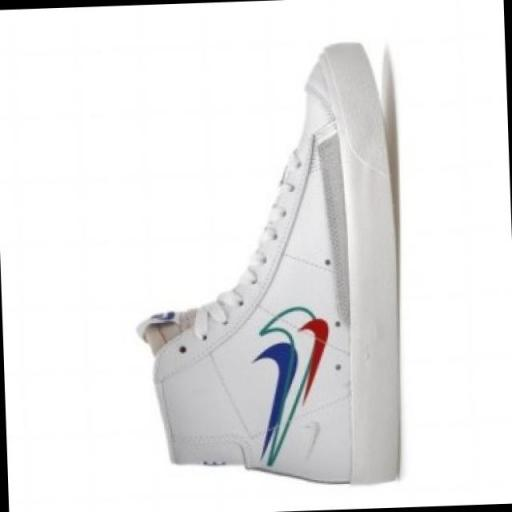Nike: (294, 312, 335, 402)
